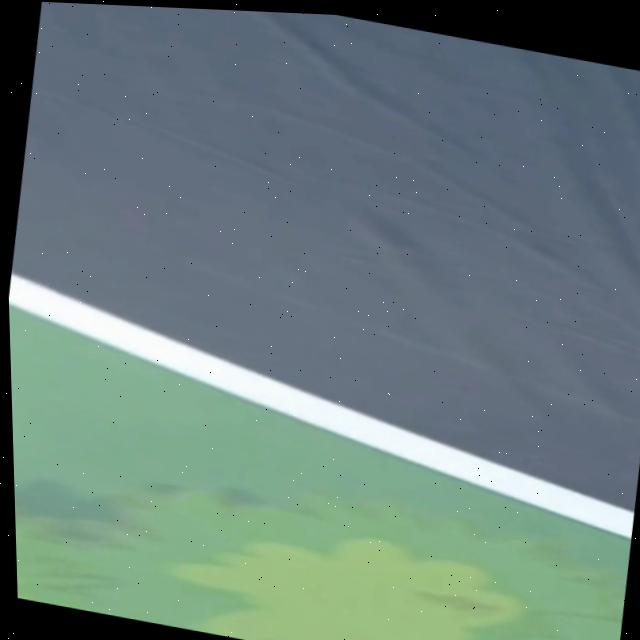right: (9, 272, 635, 537)
